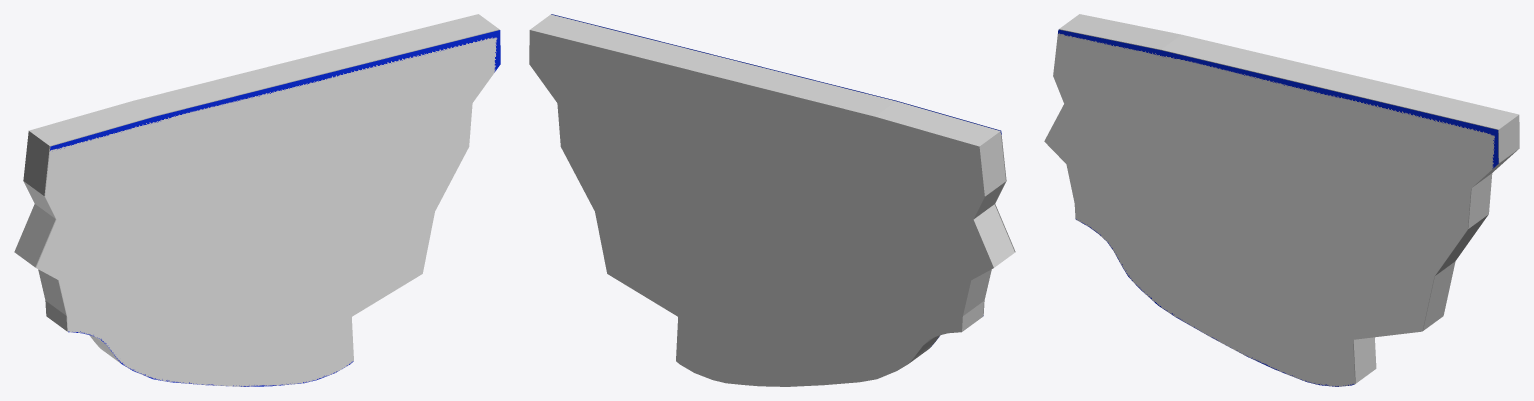
3 renders of one model, left to right at view 1: azimuth 30°, elevation 25°; view 2: azimuth 150°, elevation 25°; view 3: azimuth 330°, elevation 25°, orthographic. The views are drawn at different scales.
Parts seen in each view (by area): view 1: Out_4_1, Out_4_0; view 2: Out_4_0, Out_4_1; view 3: Out_4_1, Out_4_0.
Part boxes in pixels (bbox=[...]): Out_4_1: bbox=[36, 30, 500, 386]; Out_4_0: bbox=[14, 14, 499, 363]; Out_4_0: bbox=[529, 14, 1014, 386]; Out_4_1: bbox=[551, 14, 1015, 346]; Out_4_1: bbox=[1044, 29, 1498, 386]; Out_4_0: bbox=[1059, 14, 1519, 383].
Bounding box in the file's own units: 6.36 × 4 × 0.515.
Materials: 2 (1 with a texture image).
